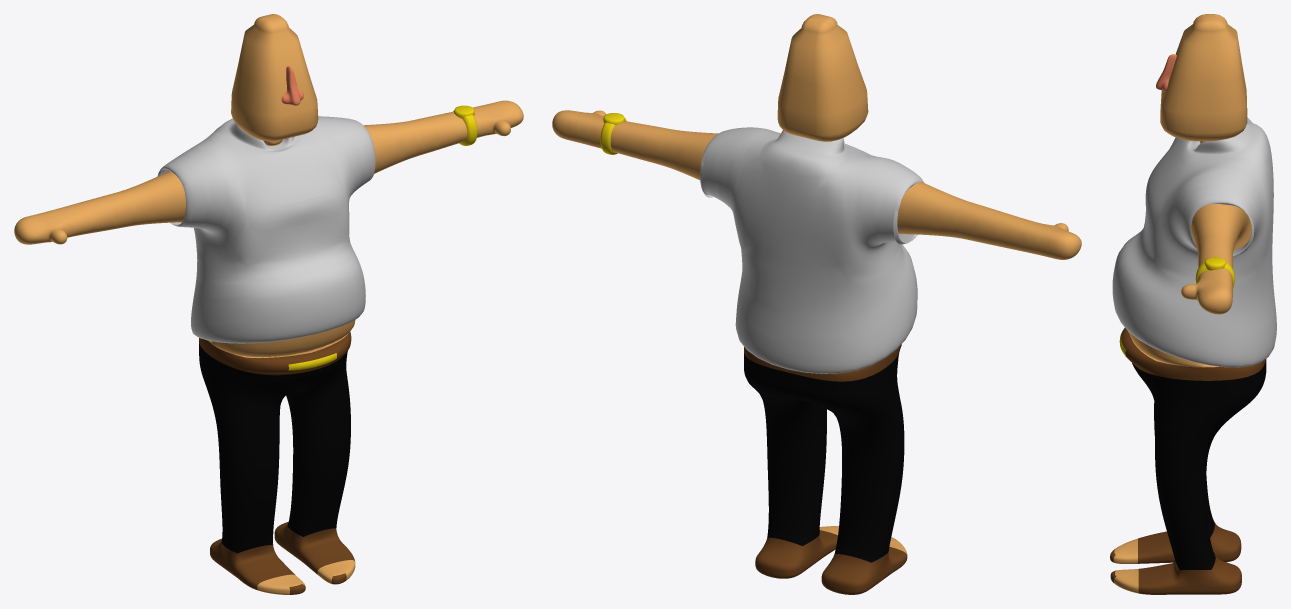
Rendered from Dad.fbx.
3 renders of one model, left to right at view 1: azimuth 30°, elevation 25°; view 2: azimuth 150°, elevation 25°; view 3: azimuth 270°, elevation 25°, orthographic. The views are drawn at different scales.
Parts seen in each view (by area): view 1: Cube_2, Cube, Head; view 2: Cube, Cube_2, Head; view 3: Cube, Cube_2, Head, Cube_3, Cylinder.
Boxes of the visible parts, x1=… form: Cube_2: x1=14, y1=100, x2=523, y2=594; Cube: x1=157, y1=116, x2=375, y2=343; Head: x1=231, y1=14, x2=318, y2=141; Cube: x1=700, y1=127, x2=924, y2=373; Cube_2: x1=552, y1=110, x2=1081, y2=594; Head: x1=777, y1=14, x2=868, y2=141; Cube: x1=1112, y1=117, x2=1276, y2=367; Cube_2: x1=1110, y1=141, x2=1266, y2=594; Head: x1=1160, y1=14, x2=1247, y2=141; Cube_3: x1=1156, y1=54, x2=1176, y2=91; Cylinder: x1=1204, y1=257, x2=1225, y2=270.
Bounding box in the file's own units: 672 × 686 × 187.
